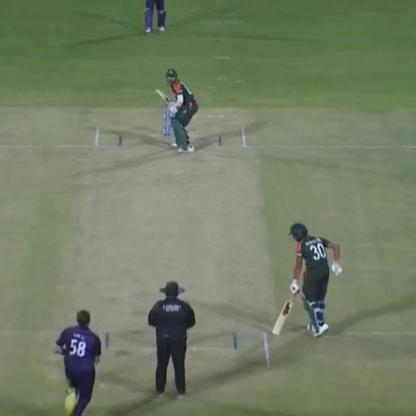bat: (274, 285, 297, 342), (151, 84, 178, 118)
pitch: (65, 120, 275, 380)
